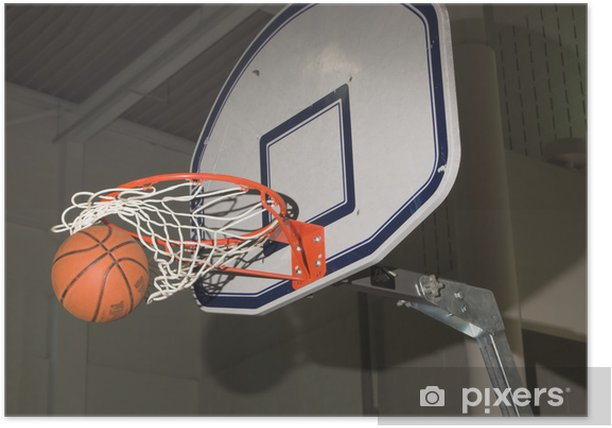ball: (45, 218, 163, 330)
net: (49, 164, 288, 309)
